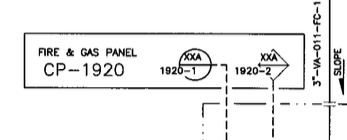Instrument-offset: (156, 48, 213, 84)
